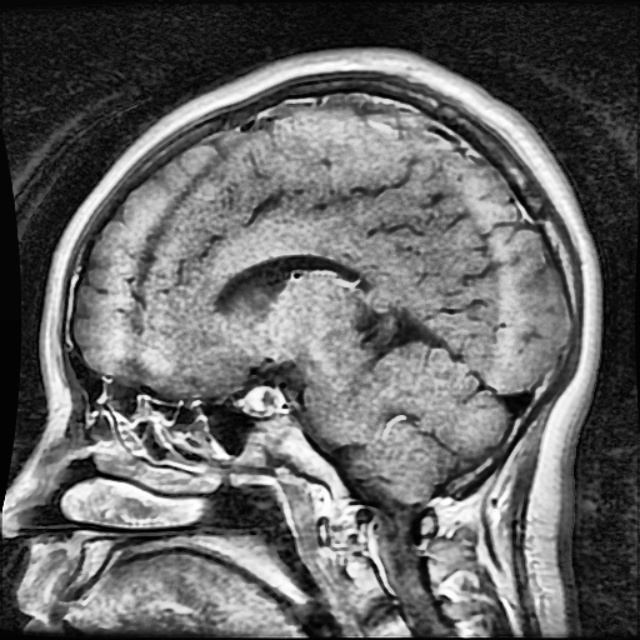Pituitary: (237, 385, 285, 417)
